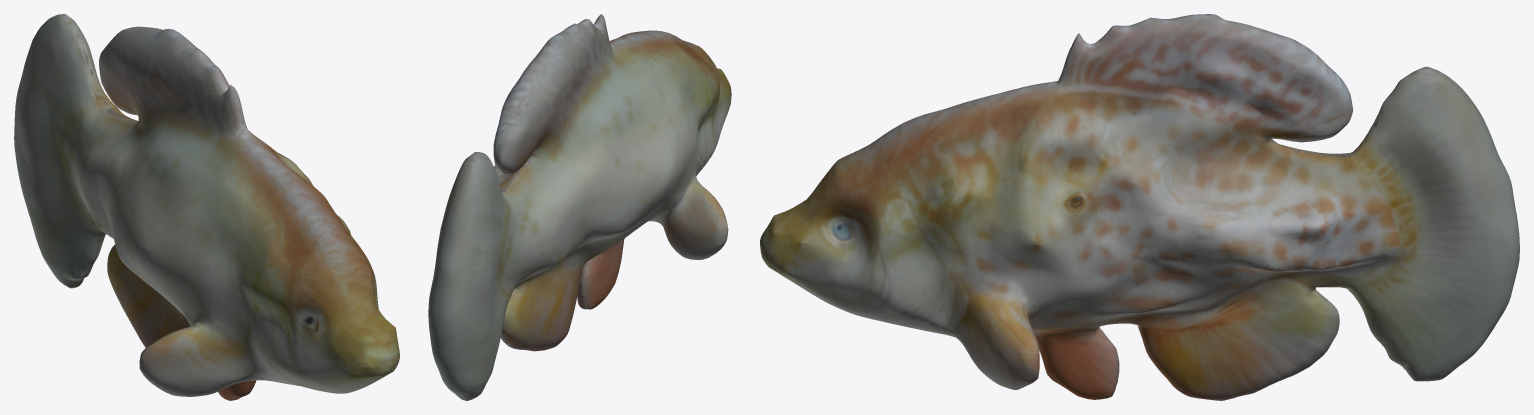
File: Jordanella_floridae_Plate_TZSR14b_24_50mm_2_0503032639.glb
3 renders of one model, left to right at view 1: azimuth 30°, elevation 25°; view 2: azimuth 150°, elevation 25°; view 3: azimuth 270°, elevation 25°, orthographic. The views are drawn at different scales.
Bounding box in the file's own units: 0.4934 × 0.6691 × 1.2.
Materials: 1 (1 with a texture image).
